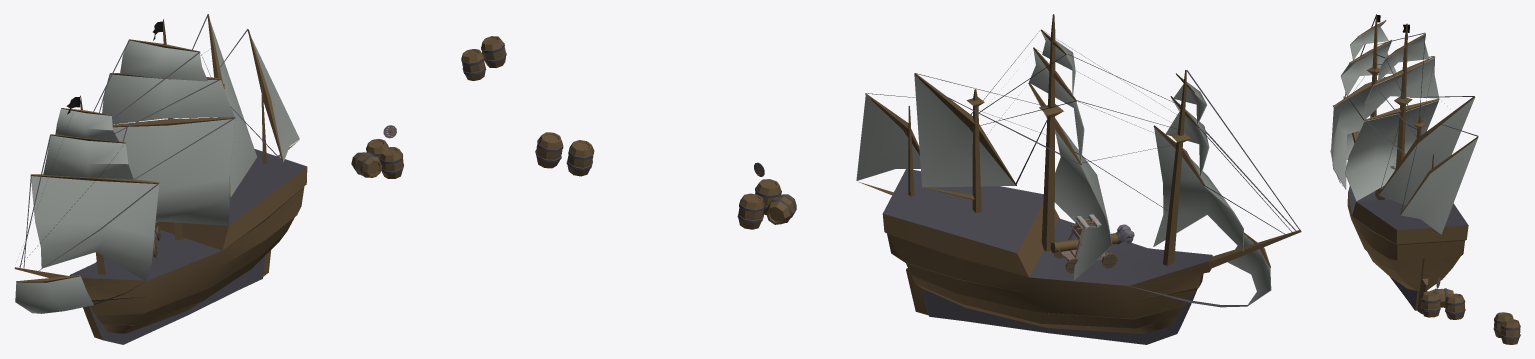
File: ship.fbx
3 views of the same model, side by side, from view 1: azimuth 30°, elevation 25°; view 2: azimuth 150°, elevation 25°; view 3: azimuth 270°, elevation 25° (orthographic). The views are drawn at different scales.
Visible parts, largest first — view 1: ship, Circle.020, Circle.019, Circle.016, Circle.017; view 2: ship, ram, Circle.020, Circle.015, Circle.019, Circle.017; view 3: ship, Circle.015, Circle.016, Circle.020, Circle.019, Circle.017.
Boxes of the visible parts, bbox=[...] form: ship: bbox=[14, 14, 307, 344]; Circle.020: bbox=[481, 36, 506, 67]; Circle.019: bbox=[461, 49, 486, 80]; Circle.016: bbox=[379, 147, 403, 178]; Circle.017: bbox=[351, 152, 382, 177]; ship: bbox=[856, 14, 1301, 344]; ram: bbox=[1050, 214, 1134, 273]; Circle.020: bbox=[535, 132, 563, 168]; Circle.015: bbox=[737, 193, 764, 229]; Circle.019: bbox=[566, 140, 594, 176]; Circle.017: bbox=[766, 194, 796, 224]; ship: bbox=[1330, 14, 1478, 314]; Circle.015: bbox=[1444, 293, 1465, 319]; Circle.016: bbox=[1421, 291, 1440, 317]; Circle.020: bbox=[1500, 319, 1520, 344]; Circle.019: bbox=[1493, 312, 1513, 337]; Circle.017: bbox=[1430, 288, 1453, 307].
Bounding box in the file's own units: 4435 × 2115 × 1467.
